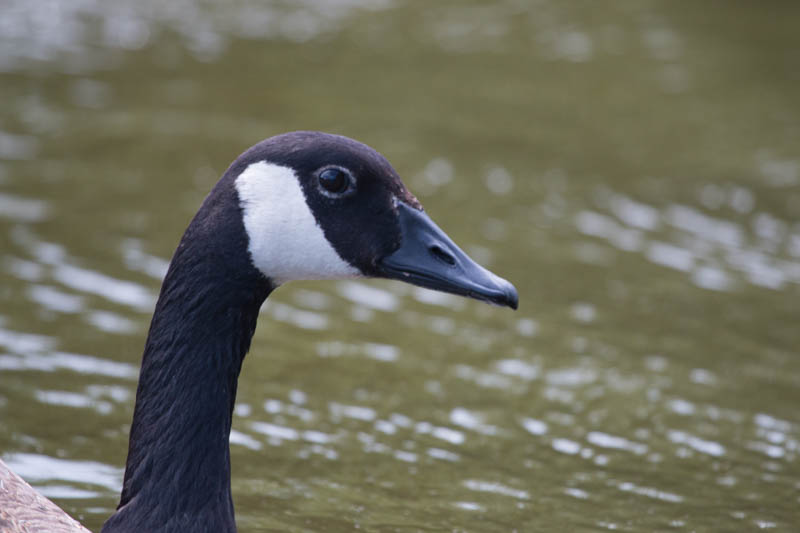goose-head: (179, 129, 521, 310)
